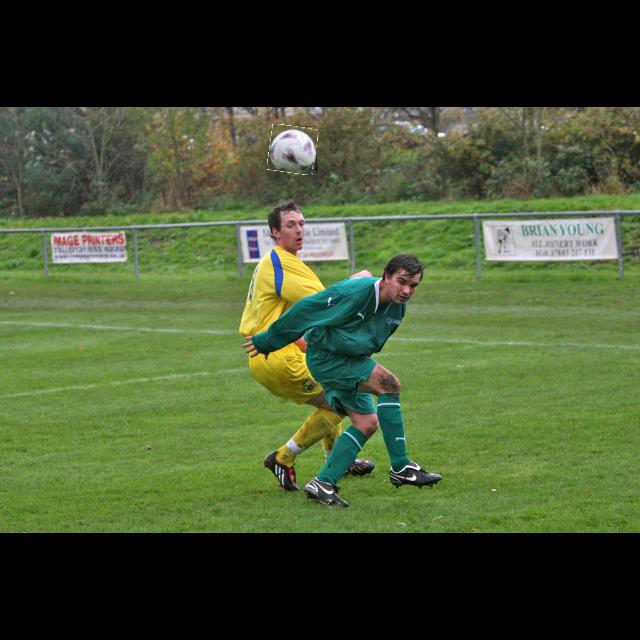Football: (269, 126, 317, 174)
